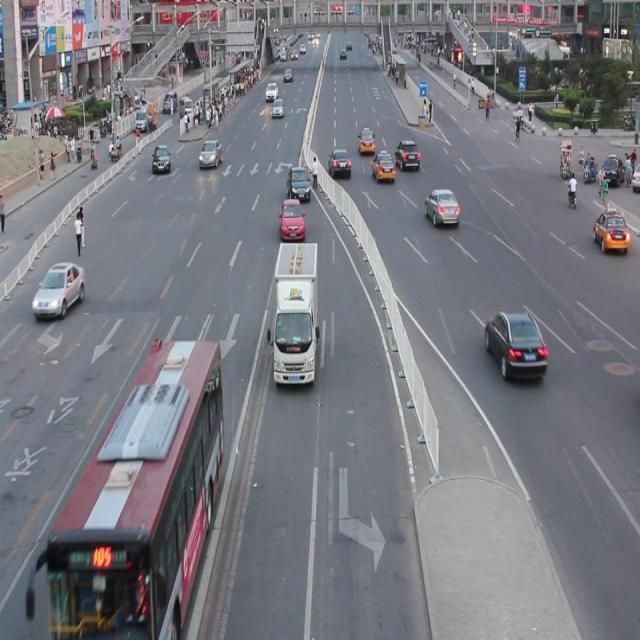bus: (271, 241, 318, 384)
car: (484, 307, 546, 380), (32, 261, 85, 315), (591, 208, 628, 249), (424, 187, 458, 226), (279, 197, 304, 239), (286, 165, 310, 199)
van: (47, 341, 224, 640)
